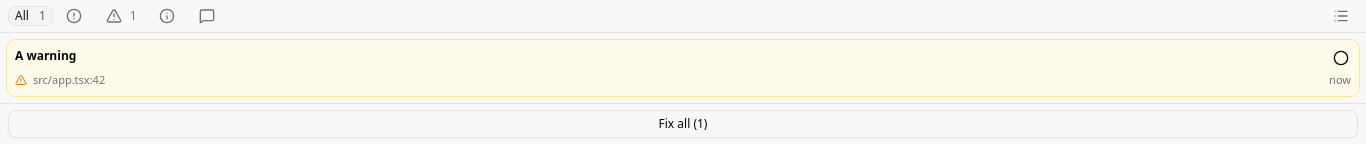
Test case: ReviewPanel › empty and loading states › shows "No unresolved comments" when filter yields empty for a severity
The width and height of the screenshot is (1366, 160).
Expected: the text "A warning" is shown, [15, 48, 76, 63]
Click the 2nd button.
click(75, 16)  # box [57, 6, 93, 26]
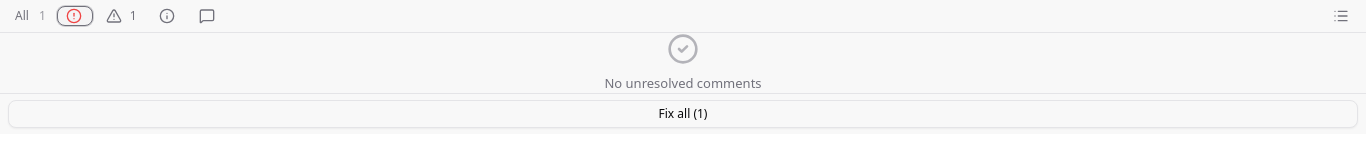
Result: the text "No unresolved comments" is shown at [604, 73, 762, 93]
